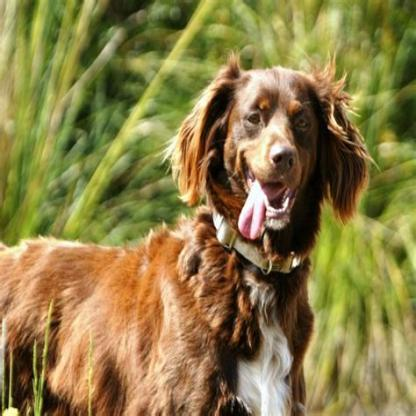dog: (0, 58, 364, 415)
